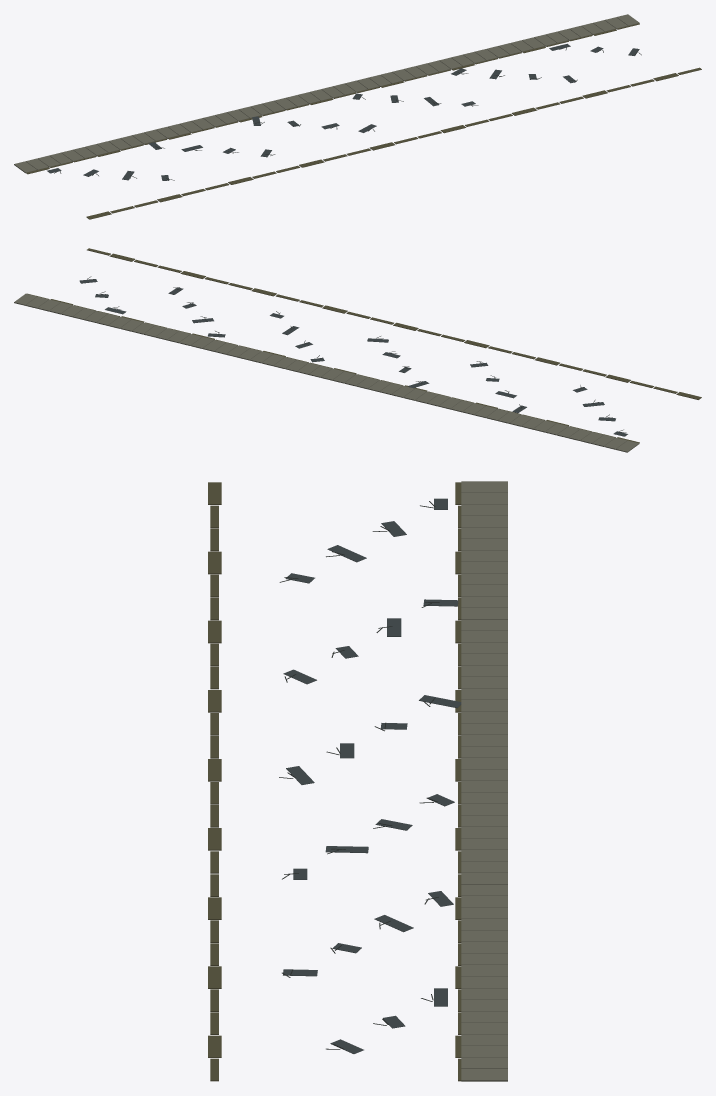
Rendered from street_ground.glb.
The picture shows the model from 3 angles, top to bottom: view 1: azimuth 30°, elevation 25°; view 2: azimuth 150°, elevation 25°; view 3: azimuth 270°, elevation 25°; orthographic projection. The views are drawn at different scales.
Parts seen in each view (by area): view 1: DD_street_ground; view 2: DD_street_ground; view 3: DD_street_ground.
Boxes of the visible parts, x1,y1,x2,y2 form: DD_street_ground: [14, 14, 701, 219]; DD_street_ground: [14, 248, 701, 452]; DD_street_ground: [208, 481, 507, 1081].
Size of the model in its own units: 25.99 by 0.0385 by 5.5.
